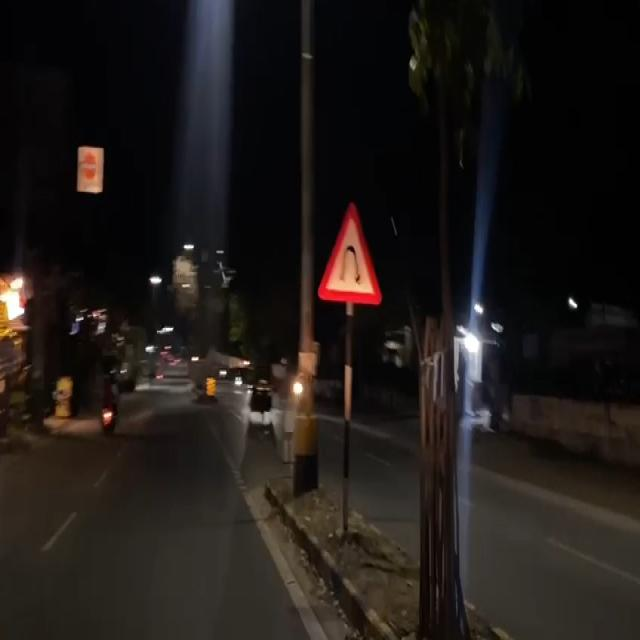bien_cam: (314, 194, 384, 308)
